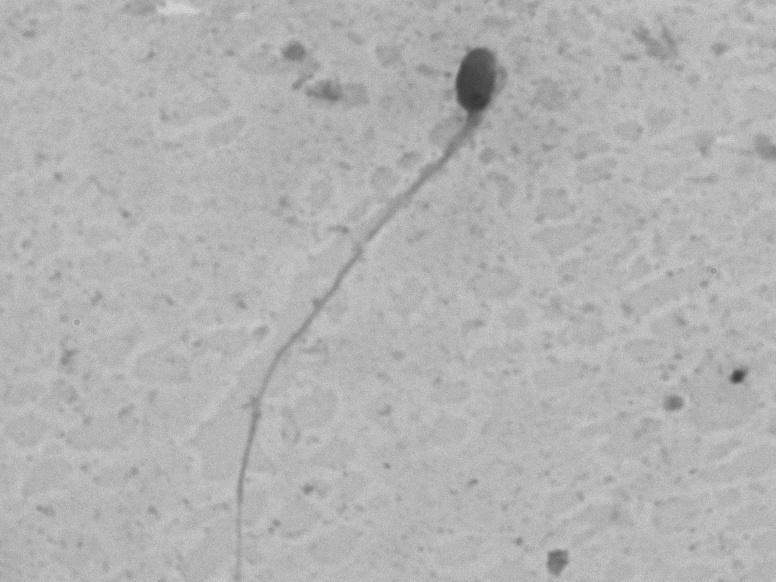Abnormal: (177, 19, 538, 547)
